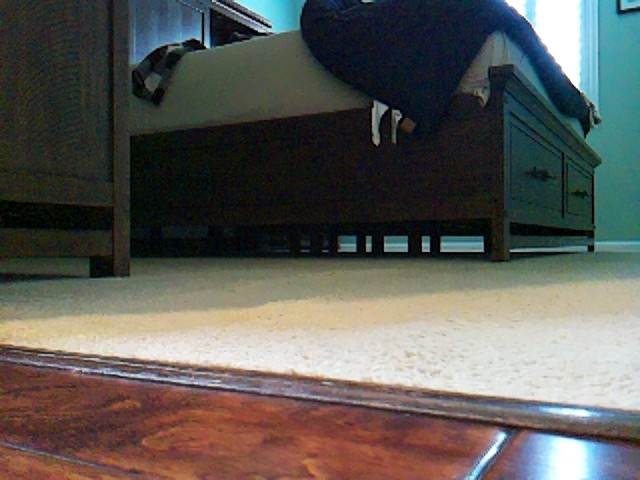Drivable Area: (1, 286, 640, 480), (138, 263, 640, 287)
Obstacle: (134, 0, 600, 254), (0, 0, 134, 281), (511, 96, 603, 260)
